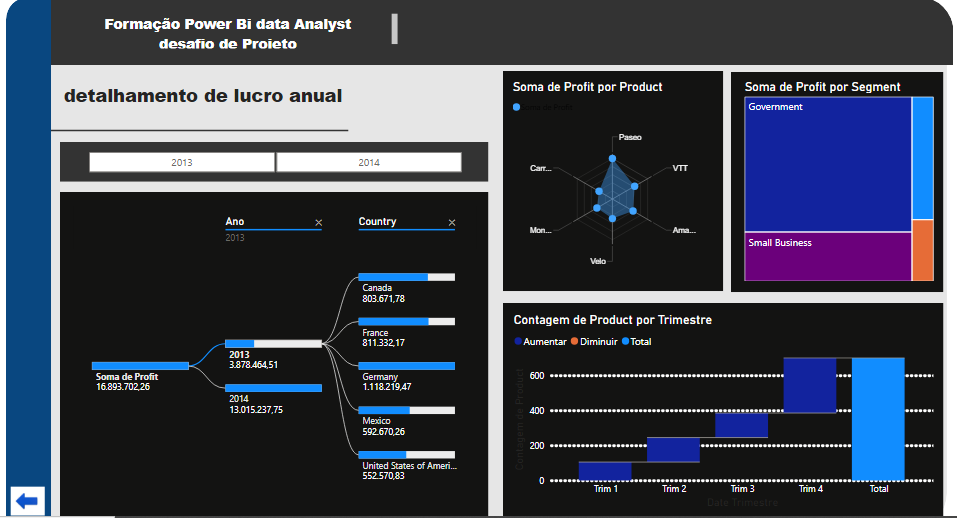

The page's visual inventory and layout, read from the dashboard file:
{"tool":"powerbi","page":{"name":"Página 2","canvas":[1280,720],"ordinal":1},"visuals":[{"type":"shape","box":[0,0,1271.1,720.4],"z":0},{"type":"shape","box":[0,0,61,720.4],"z":1000},{"type":"shape","box":[61,0,1219,92.3],"z":2000},{"type":"textbox","box":[72.9,17.9,461.4,56.6],"z":3000},{"type":"shape","box":[61,165.2,401.9,31.3],"z":4000},{"type":"textbox","box":[72.9,110.1,390,55.1],"z":5000},{"type":"shape","box":[72.9,196.5,579,53.6],"z":6000},{"type":"shape","box":[72.9,263.4,579,445],"z":7000},{"type":"shape","box":[671.3,413.8,595.3,294.7],"z":8000},{"type":"shape","box":[671.3,99.7,297.7,297.7],"z":9000},{"type":"shape","box":[979.3,101.2,287.3,297.7],"z":10000},{"type":"decompositionTreeVisual","fields":{"Analyze":["Sum(financials.Profit)"],"ExplainBy":["financials.Date.Variation.Hierarquia de datas.Ano","financials.Country"]},"box":[86.3,278.3,553.7,418.2],"z":11000},{"type":"slicer","fields":{"Values":["financials.Date.Variation.Hierarquia de datas.Ano"]},"box":[86.7,202.3,553.3,41.3],"z":12000},{"type":"waterfallChart","fields":{"Y":["CountNonNull(financials.Product)"],"Category":["financials.Date.Variation.Hierarquia de datas.Trimestre"]},"box":[680.2,425.7,577.5,270.9],"z":13000},{"type":"treemap","fields":{"Values":["Sum(financials.Profit)"],"Details":["financials.Segment"]},"box":[992.7,110.1,264.9,278.3],"z":14000},{"type":"image","box":[1.4,652.4,56.4,56.4],"z":15001},{"type":"RadarChart1446119667547","fields":{"Y":["Sum(financials.Profit)"],"Category":["financials.Product"]},"box":[679.9,110.1,279.4,278],"z":15002}]}

Visuals, with their boxes on the page's 1280x720 design canvas (x1, y1, x2, y2). These are canvas units, not pixel positions in the 957x518 screenshot, which may show the page scaled, cropped or inside an application window:
shape: (x1=0, y1=0, x2=1271, y2=720)
shape: (x1=0, y1=0, x2=61, y2=720)
shape: (x1=61, y1=0, x2=1280, y2=92)
textbox: (x1=73, y1=18, x2=534, y2=74)
shape: (x1=61, y1=165, x2=463, y2=196)
textbox: (x1=73, y1=110, x2=463, y2=165)
shape: (x1=73, y1=196, x2=652, y2=250)
shape: (x1=73, y1=263, x2=652, y2=708)
shape: (x1=671, y1=414, x2=1267, y2=708)
shape: (x1=671, y1=100, x2=969, y2=397)
shape: (x1=979, y1=101, x2=1267, y2=399)
decompositionTreeVisual - Sum(financials.Profit) x financials.Date.Variation.Hierarquia de datas.Ano: (x1=86, y1=278, x2=640, y2=696)
slicer - financials.Date.Variation.Hierarquia de datas.Ano: (x1=87, y1=202, x2=640, y2=244)
waterfallChart - CountNonNull(financials.Product) x financials.Date.Variation.Hierarquia de datas.Trimestre: (x1=680, y1=426, x2=1258, y2=697)
treemap - Sum(financials.Profit) x financials.Segment: (x1=993, y1=110, x2=1258, y2=388)
image: (x1=1, y1=652, x2=58, y2=709)
RadarChart1446119667547 - Sum(financials.Profit) x financials.Product: (x1=680, y1=110, x2=959, y2=388)
